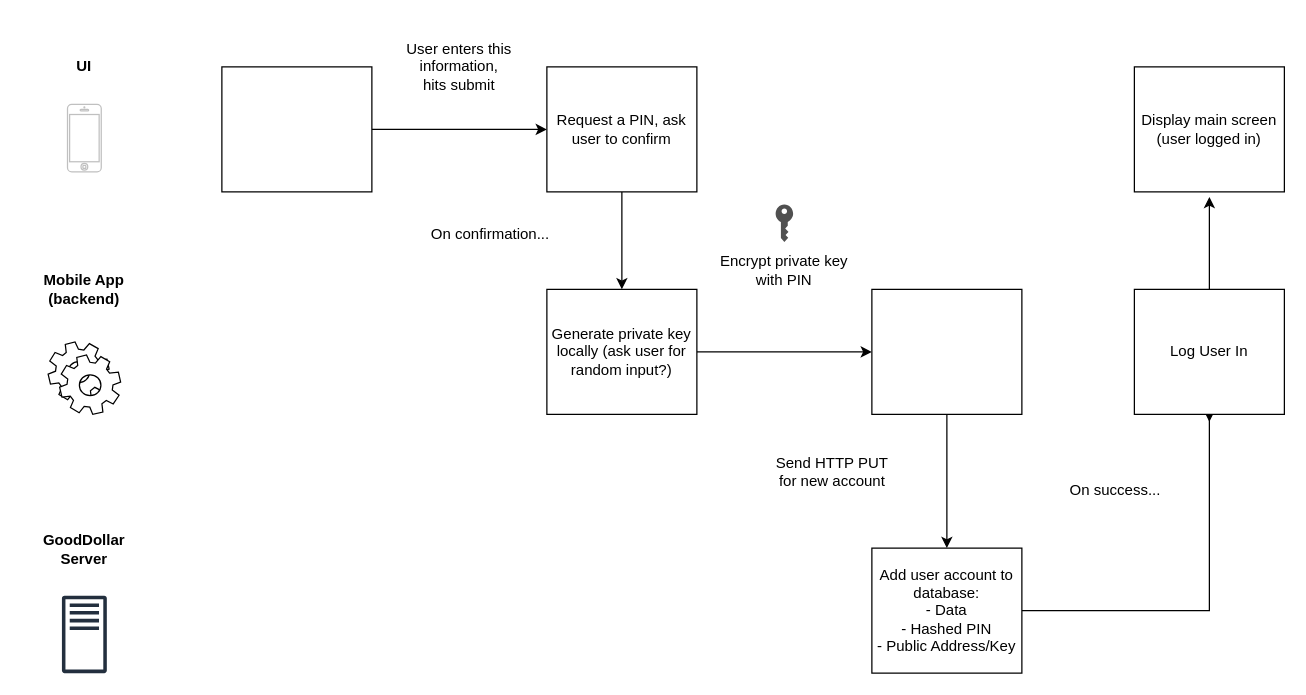
This 1306x695 diagram has some shape labels left out. Each missing label, with the centre of its shape:
Hold encrypted key locally: point 946,351
Render a form asking for basic information (Name, email): point 296,129
